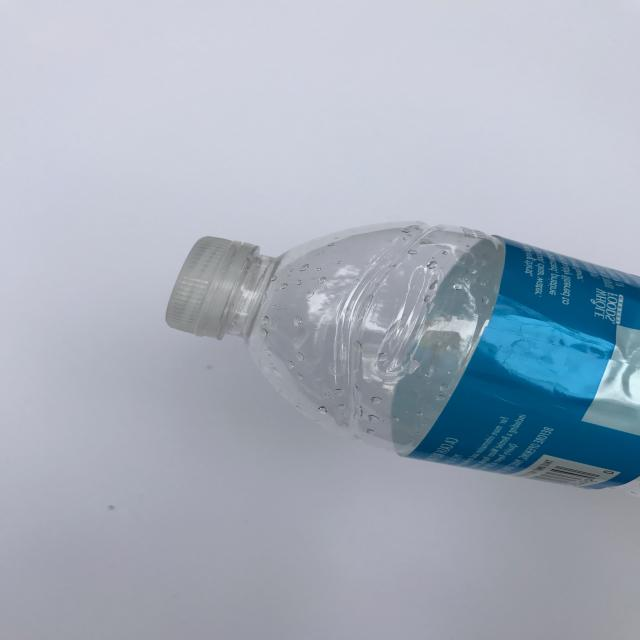plastic: (165, 219, 640, 491)
